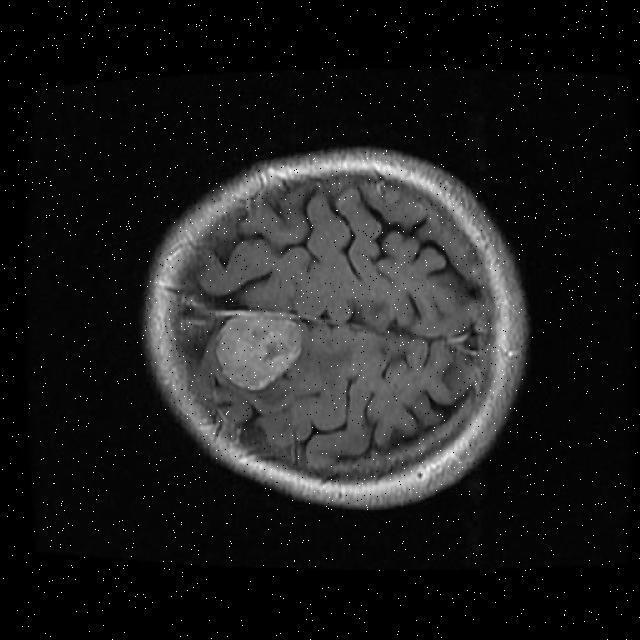Meningioma: (215, 314, 300, 390)
